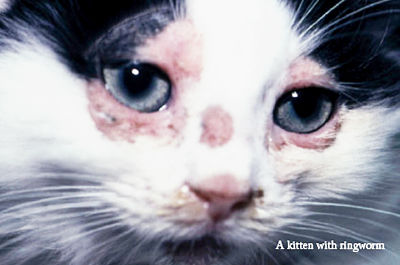ringworm: (146, 20, 203, 82), (101, 108, 190, 146), (197, 100, 239, 150), (271, 126, 333, 152), (284, 58, 335, 86)
